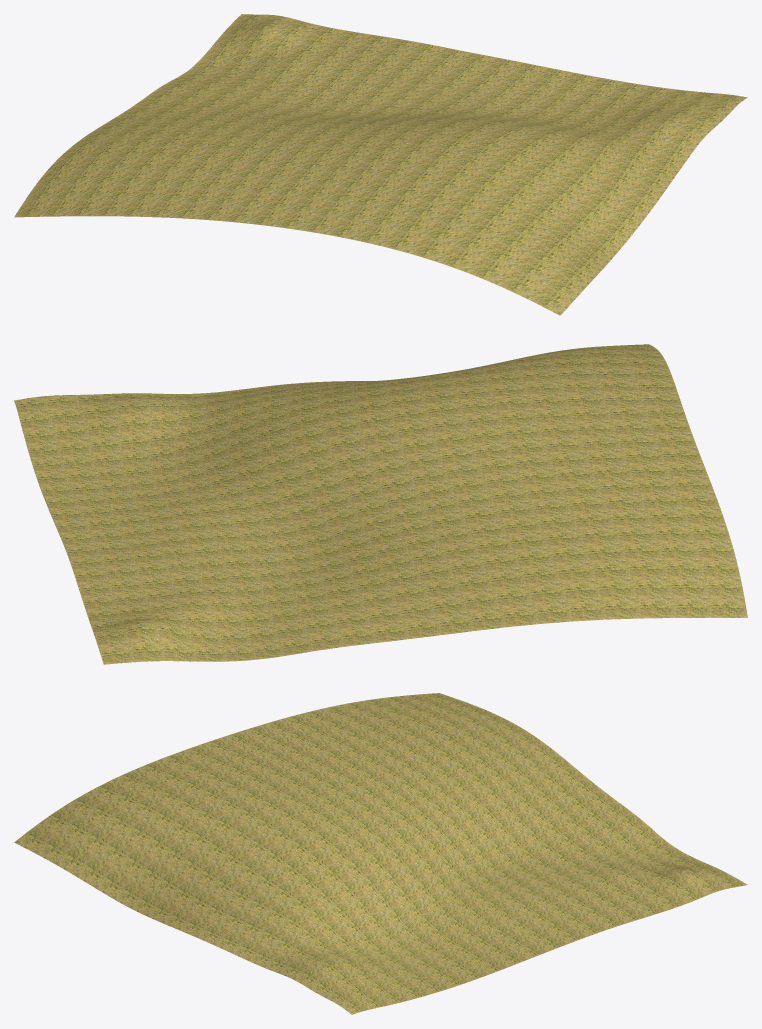
Rendered from CastleGrass.glb.
3 renders of one model, top to bottom at view 1: azimuth 30°, elevation 25°; view 2: azimuth 150°, elevation 25°; view 3: azimuth 270°, elevation 25°, orthographic. The views are drawn at different scales.
Visible parts, largest first — view 1: CastleGrass-col; view 2: CastleGrass-col; view 3: CastleGrass-col.
Part boxes in pixels (box(x1,y1,x2,y2)): CastleGrass-col: box(14, 14, 747, 315); CastleGrass-col: box(14, 344, 747, 664); CastleGrass-col: box(14, 693, 747, 1014).
Bounding box in the file's own units: 115 × 9.49 × 116.
1 material, 1 textured.
